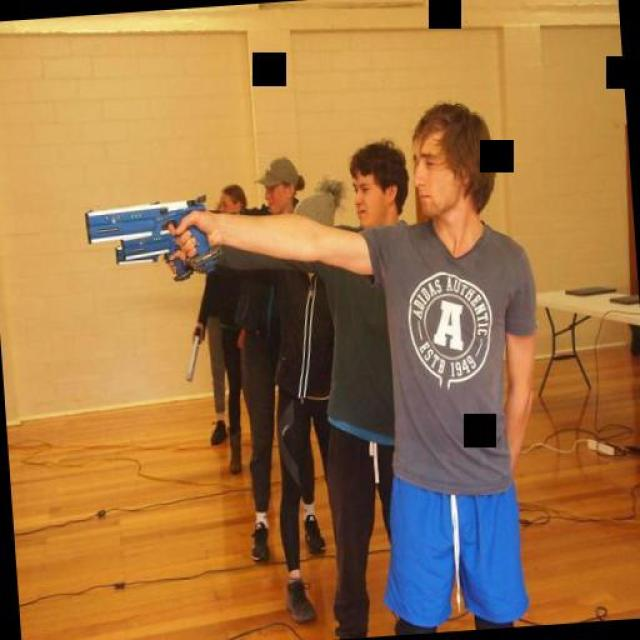gun: (79, 188, 221, 278), (107, 225, 195, 299)
